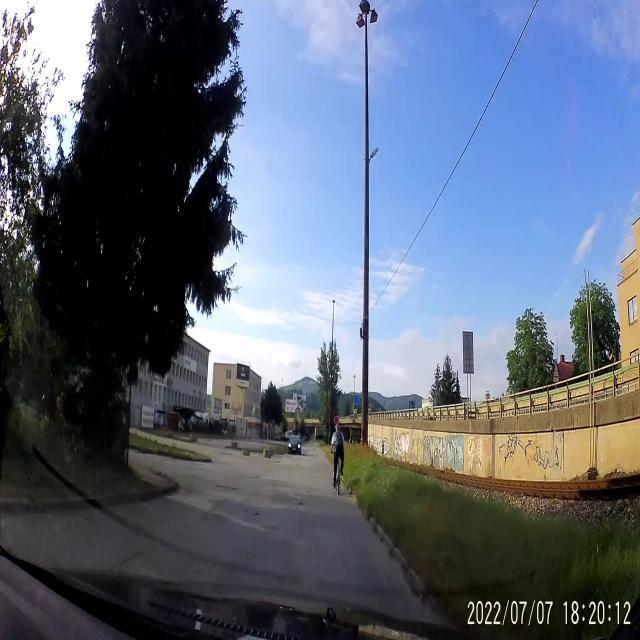Pothole: (210, 478, 237, 500), (273, 496, 302, 506), (294, 489, 314, 498), (248, 471, 262, 482)
